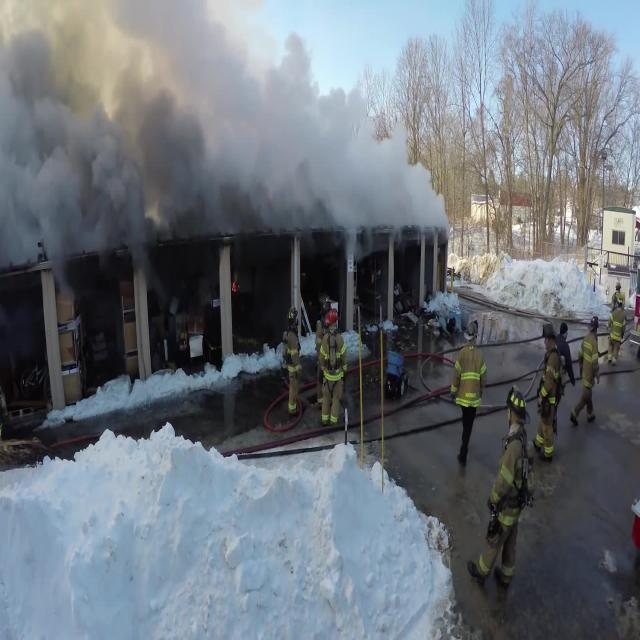Smoke: (2, 0, 450, 273)
